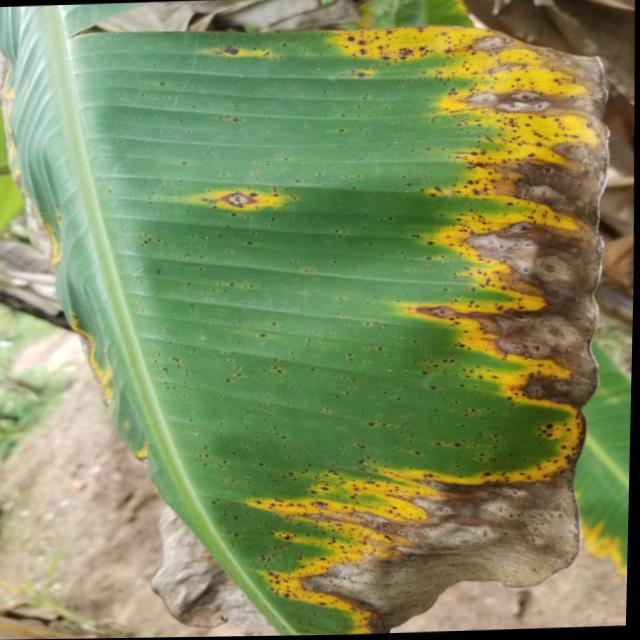Early_rust: (151, 15, 605, 634)
